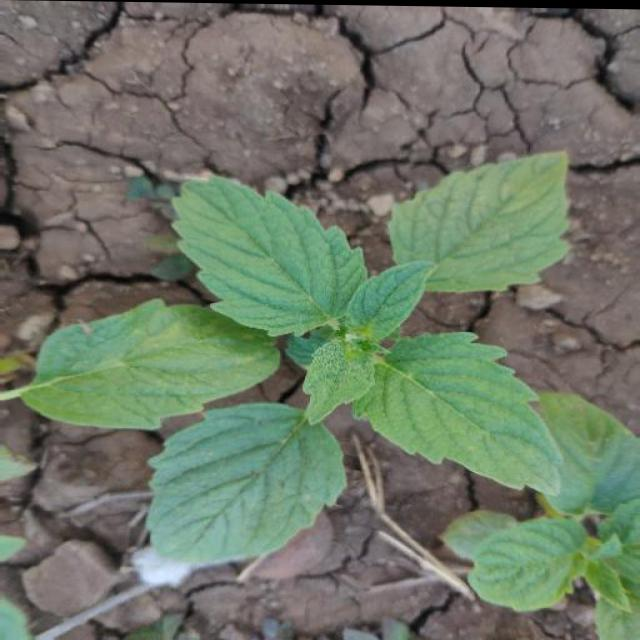crop: (25, 139, 625, 599)
